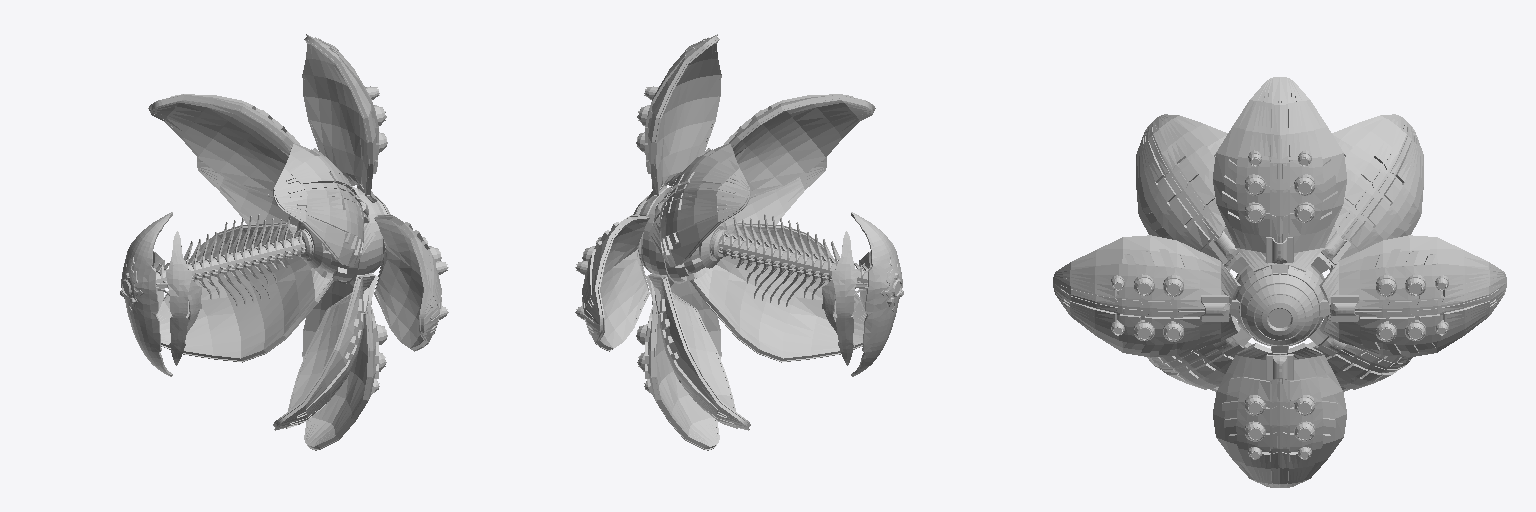
File: NewMotherShip.obj
The picture shows the model from 3 angles: view 1: azimuth 30°, elevation 25°; view 2: azimuth 150°, elevation 25°; view 3: azimuth 270°, elevation 25°; orthographic projection.
Parts seen in each view (by area): view 1: NewMothership; view 2: NewMothership; view 3: NewMothership.
Boxes of the visible parts, x1,y1,x2,y2 form: NewMothership: [120, 34, 448, 450]; NewMothership: [575, 34, 903, 450]; NewMothership: [1053, 77, 1506, 487].
Size of the model in its own units: 50.97 by 76.73 by 76.73.